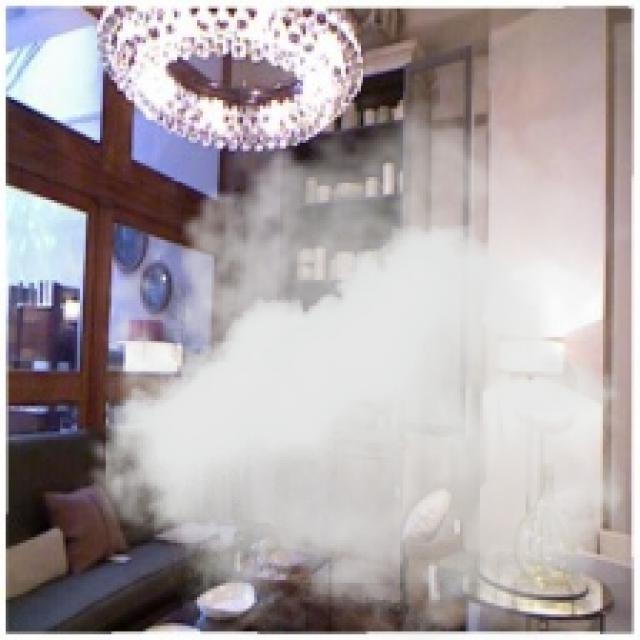smoke: (71, 80, 628, 637)
